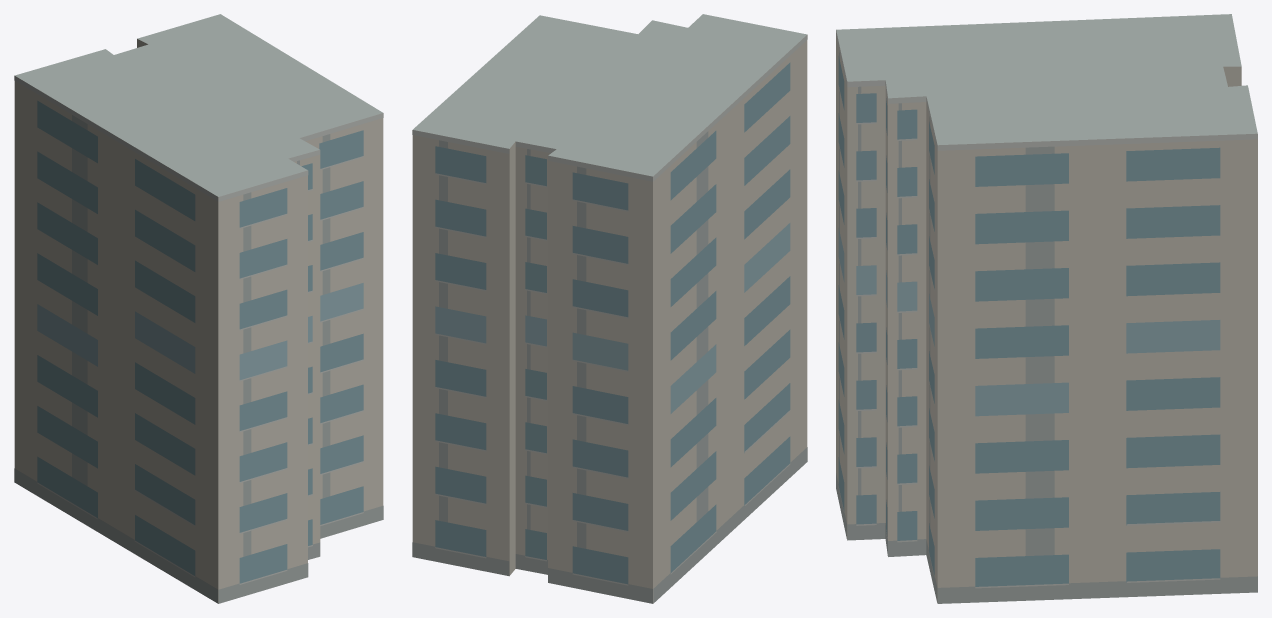
File: survey-upis-32797687.glb
3 renders of one model, left to right at view 1: azimuth 30°, elevation 25°; view 2: azimuth 150°, elevation 25°; view 3: azimuth 270°, elevation 25°, orthographic. The views are drawn at different scales.
Parts seen in each view (by area): view 1: survey-upis-32797687.tmp; view 2: survey-upis-32797687.tmp; view 3: survey-upis-32797687.tmp.
Part boxes in pixels (x1,y1,x2,y2): survey-upis-32797687.tmp: (14, 14, 383, 603); survey-upis-32797687.tmp: (412, 14, 807, 603); survey-upis-32797687.tmp: (836, 14, 1257, 603).
Size of the model in its own units: 12.27 by 20 by 16.67.
